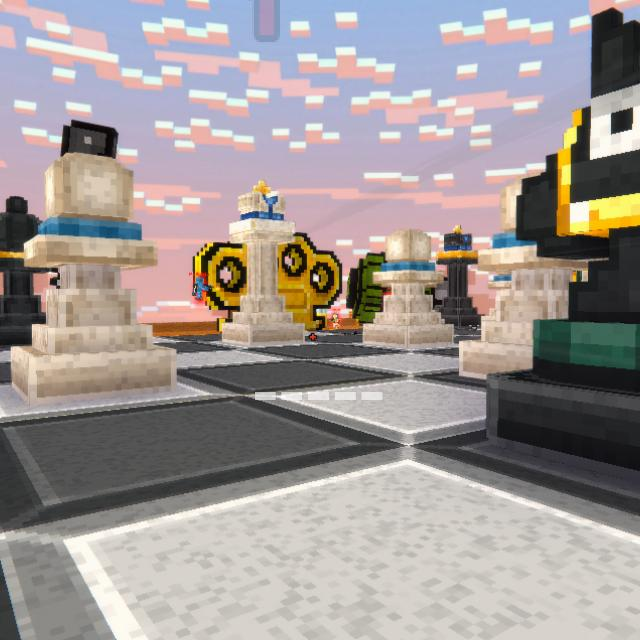Enemy: (196, 277, 209, 299), (330, 313, 341, 329)
